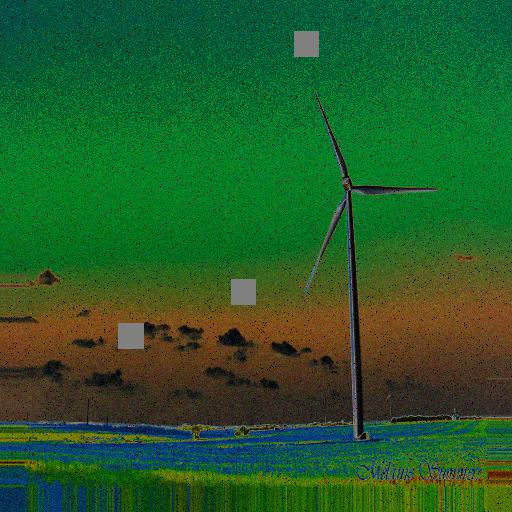wind turbine: (303, 91, 437, 431)
